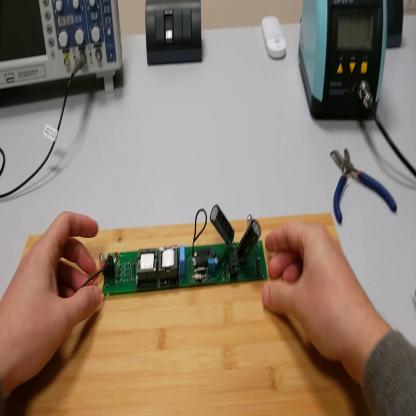hand: (4, 213, 104, 393), (261, 217, 368, 370)
high voltage board: (71, 199, 273, 296)
oscilloscope: (2, 2, 125, 111)
pliers: (329, 143, 398, 230)
socket: (387, 2, 404, 49)
welder station: (298, 3, 389, 125)
working area: (3, 212, 370, 416)
